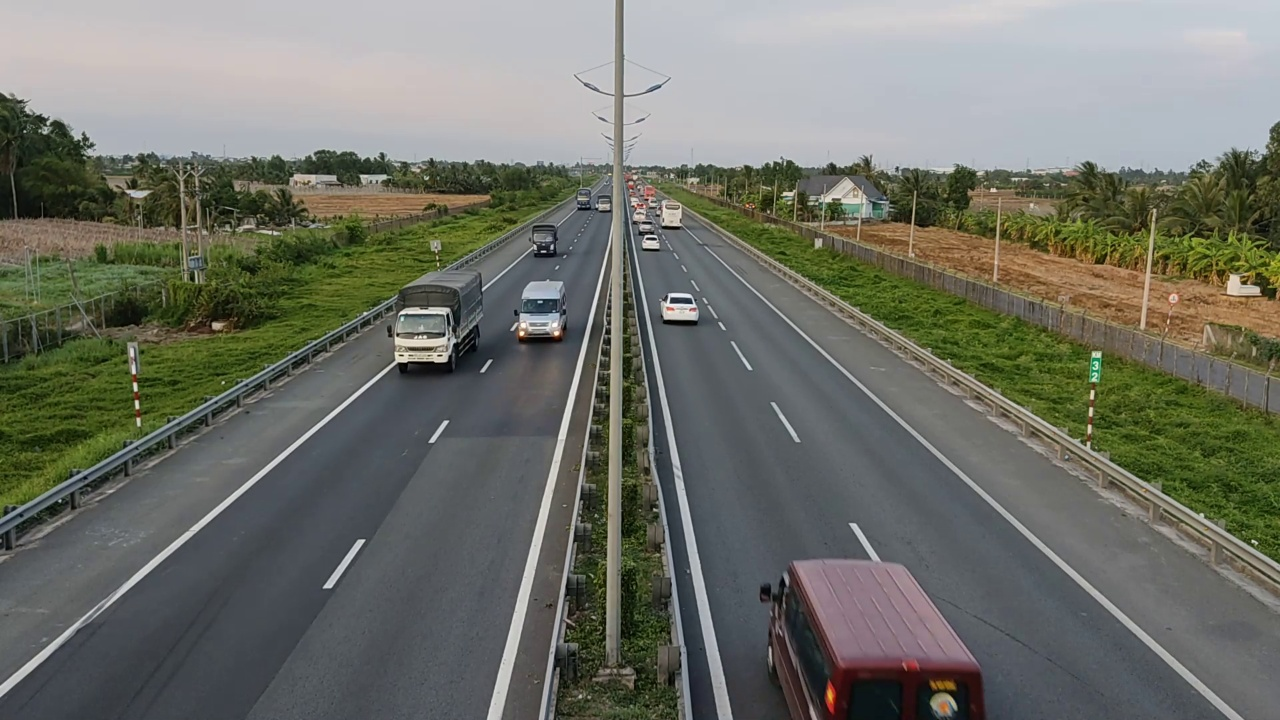car: (514, 276, 571, 345), (660, 291, 699, 324)
truck: (757, 557, 988, 718), (391, 266, 484, 374)
